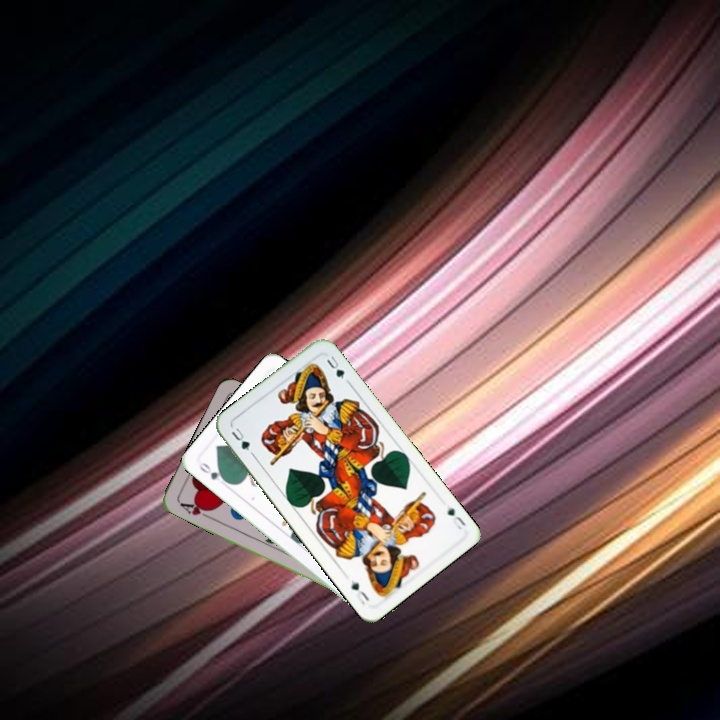GO: (195, 458, 231, 486)
GU: (442, 502, 468, 532), (227, 424, 252, 453)
HA: (175, 498, 215, 522)
